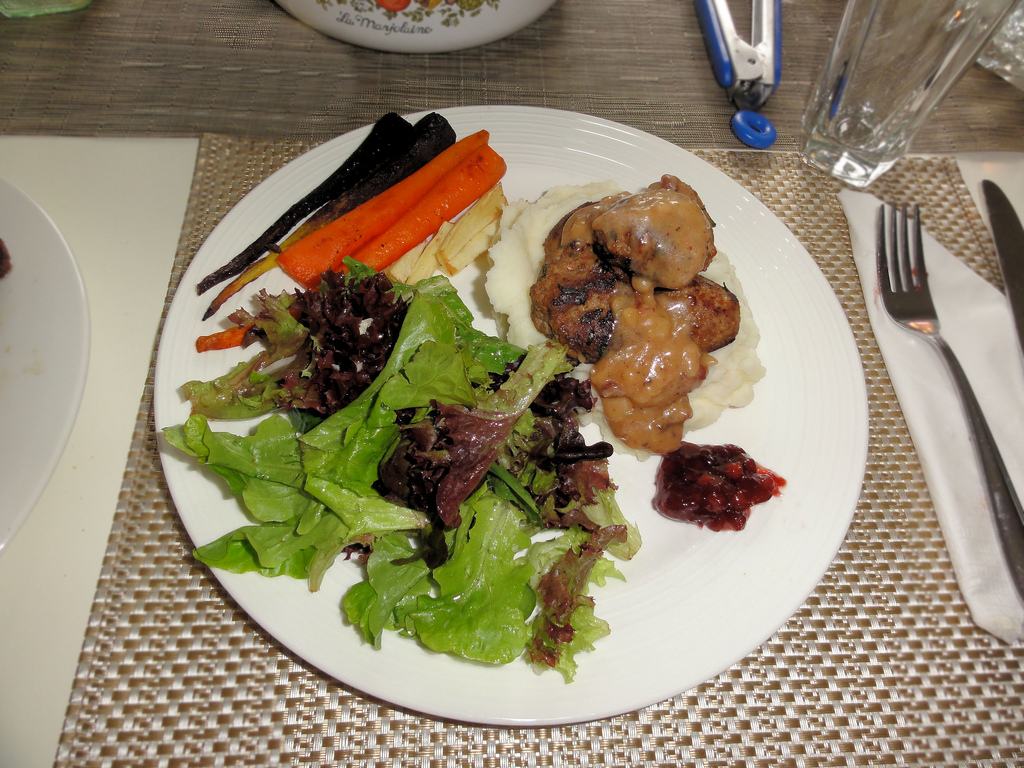chopped lettuce: (260, 289, 598, 659)
meatballs: (598, 196, 714, 286), (548, 256, 636, 362), (642, 277, 742, 348)
